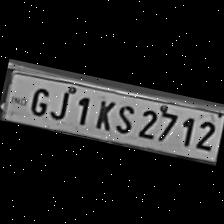1: (68, 90, 96, 128), (172, 111, 198, 148)
2: (190, 114, 219, 153), (132, 102, 160, 140)
7: (152, 106, 178, 144)
G: (23, 82, 51, 119)
J: (46, 83, 73, 122)
K: (87, 94, 116, 132)
S: (109, 99, 137, 136)
